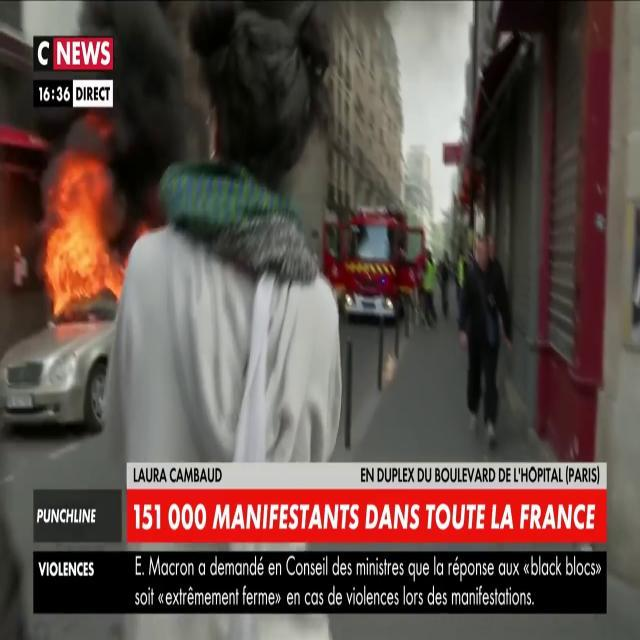Fire: (33, 148, 126, 325)
Smoke: (14, 1, 332, 199)
